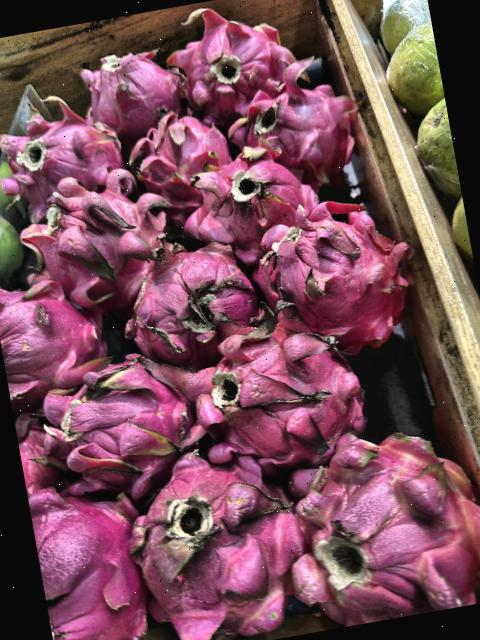buah-naga-matang: (283, 410, 480, 631), (122, 436, 316, 640), (244, 192, 430, 362), (23, 336, 209, 500), (179, 313, 374, 468), (25, 463, 167, 640), (14, 171, 178, 313), (110, 223, 270, 364), (0, 81, 137, 215), (179, 135, 327, 251), (155, 0, 296, 121), (0, 262, 113, 400), (224, 72, 360, 186), (63, 38, 188, 140), (120, 107, 237, 215)
